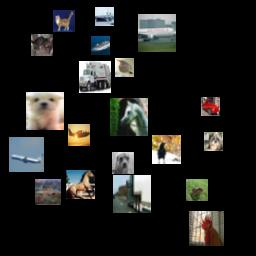airplane: (138, 14, 176, 52), (9, 137, 44, 172), (68, 124, 90, 146)
automobile: (201, 97, 220, 116)
bird: (189, 211, 224, 246), (152, 135, 181, 164), (115, 58, 134, 77)
cat: (31, 34, 53, 56), (53, 10, 75, 32)
deer: (35, 179, 61, 205)
dog: (26, 92, 64, 130), (112, 152, 134, 174), (204, 132, 223, 151)
frog: (186, 179, 208, 201)
ship: (95, 7, 114, 26), (91, 36, 110, 55)
truck: (113, 175, 151, 213), (79, 61, 111, 93)
